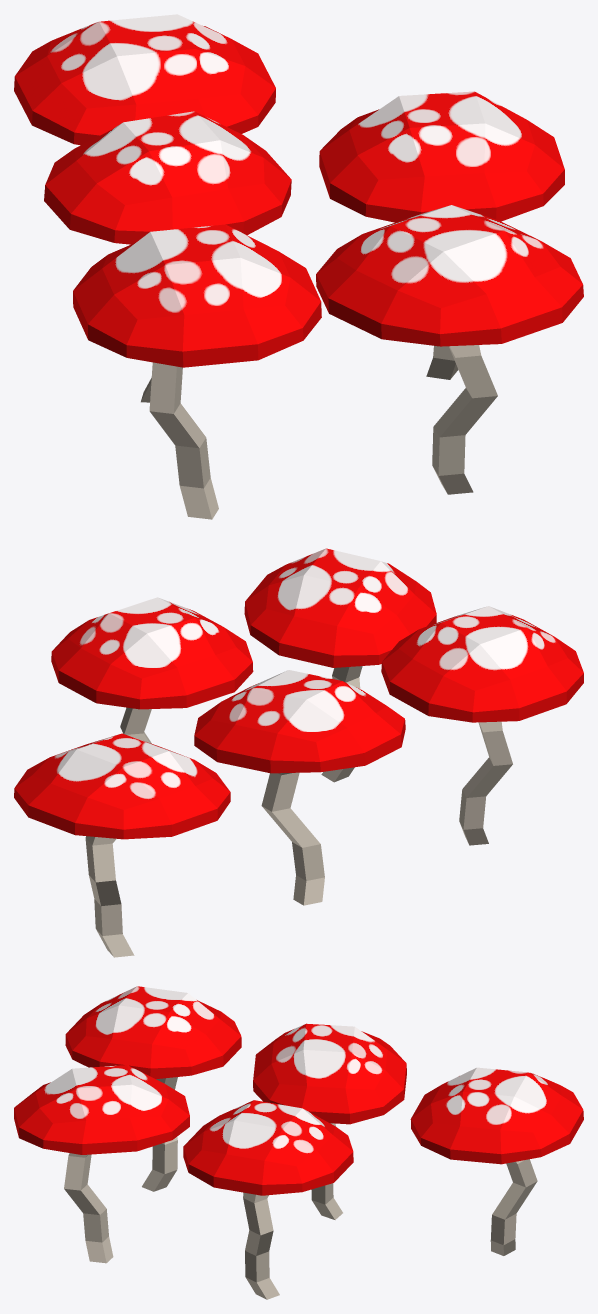
File: flugsvamp.fbx
The picture shows the model from 3 angles, top to bottom: view 1: azimuth 30°, elevation 25°; view 2: azimuth 150°, elevation 25°; view 3: azimuth 270°, elevation 25°; orthographic projection. The views are drawn at different scales.
Parts seen in each view (by area): view 1: Flugsvamp_1; view 2: Flugsvamp_1; view 3: Flugsvamp_1.
Boxes of the visible parts, <box> form: Flugsvamp_1: <box>14,14,583,519</box>; Flugsvamp_1: <box>14,548,583,957</box>; Flugsvamp_1: <box>14,986,583,1299</box>.
Bounding box in the file's own units: 74.91 × 35.91 × 99.36.
Materials: 3 (1 with a texture image).
